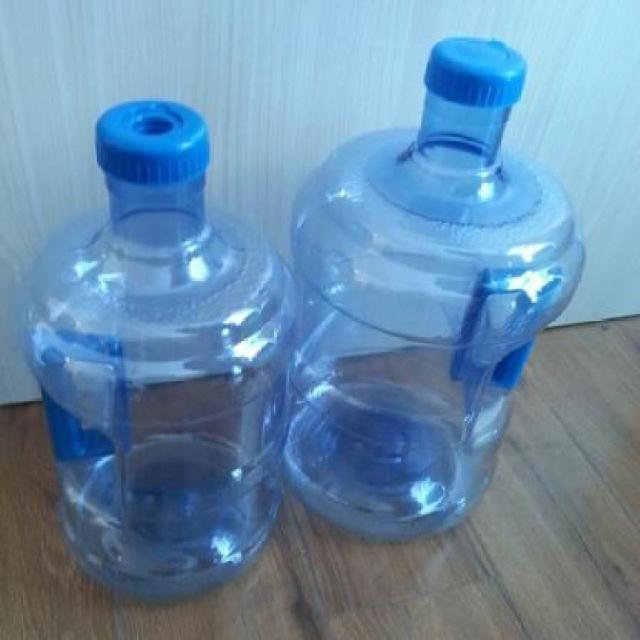coolerbottle: (274, 32, 588, 548), (12, 97, 298, 605)
